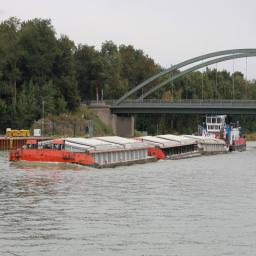tugboat: (196, 113, 250, 157)
